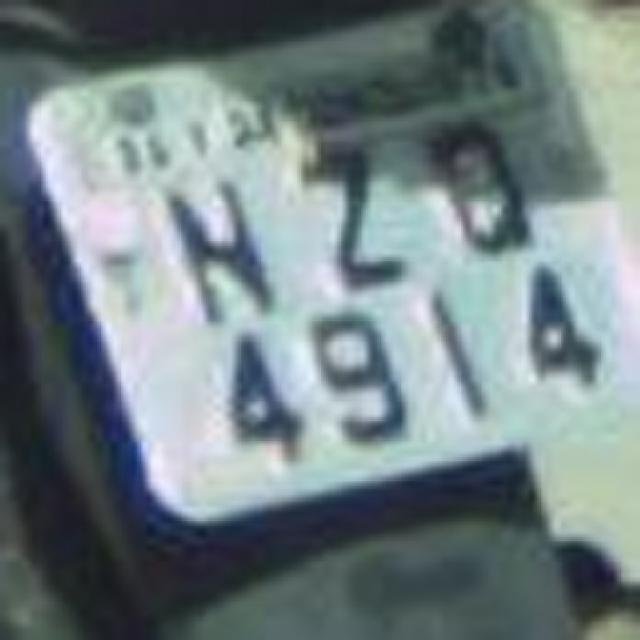1: (415, 271, 500, 424)
4: (496, 240, 624, 425), (196, 308, 324, 480)
9: (295, 284, 420, 456)
N: (152, 164, 280, 328)
O: (420, 104, 560, 264)
Z: (292, 136, 412, 292)
